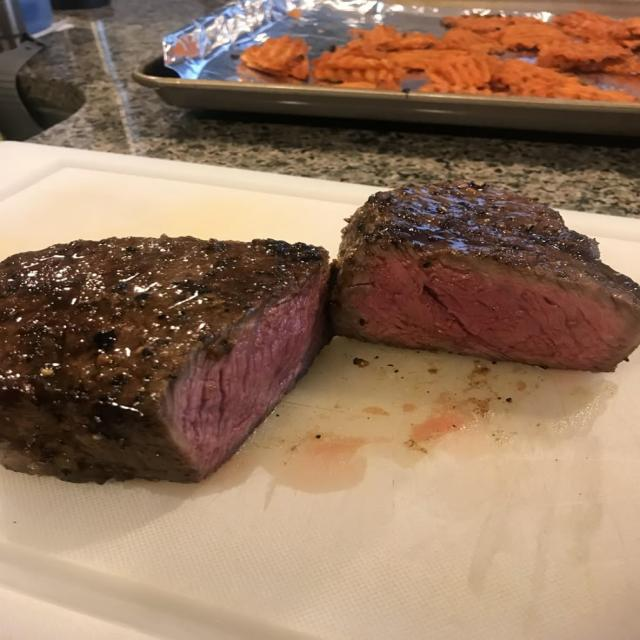beef steak: (0, 236, 330, 482), (330, 181, 639, 372)
